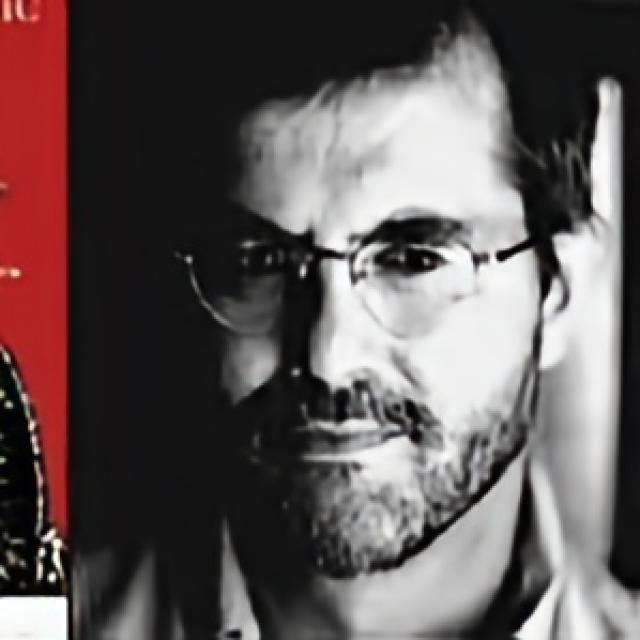neutral: (165, 4, 544, 576)
